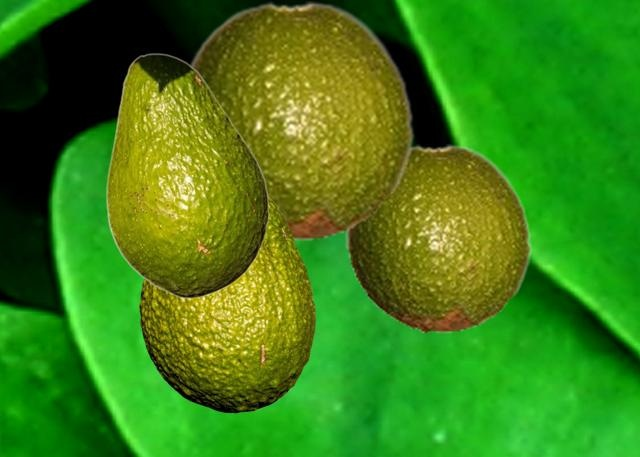avocado: (187, 1, 415, 241), (106, 53, 268, 297), (139, 197, 314, 412), (345, 144, 532, 333)
